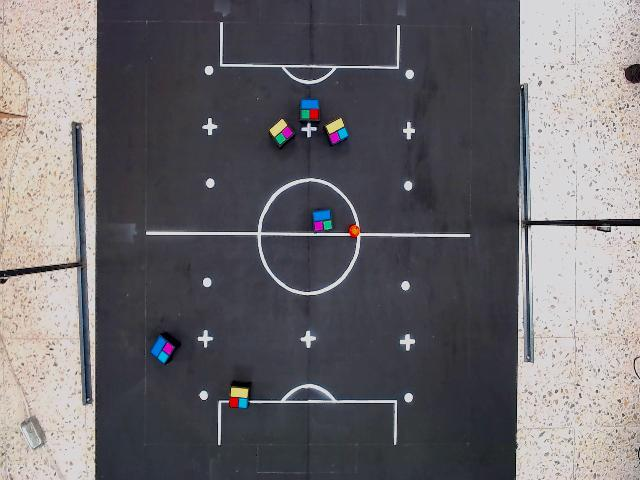robot: (267, 116, 297, 148), (149, 334, 178, 366), (323, 115, 349, 146), (310, 208, 334, 234), (228, 384, 250, 411), (298, 98, 321, 123)
